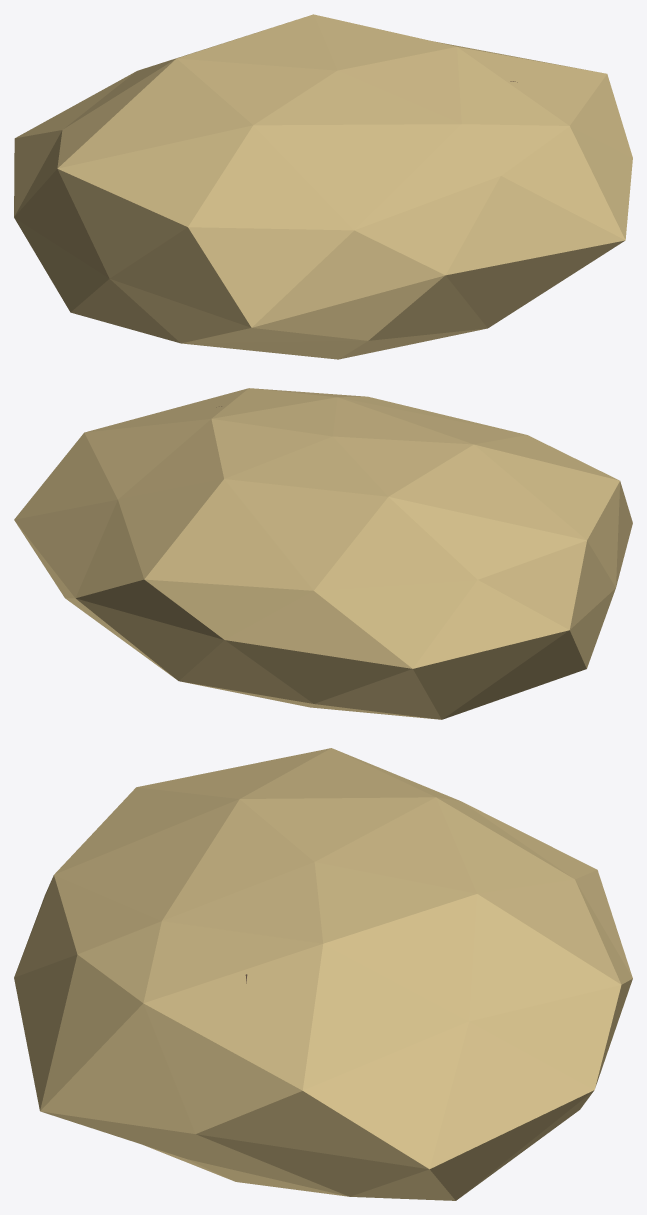
Rendered from sponge.glb.
3 views of the same model, one above another, from view 1: azimuth 30°, elevation 25°; view 2: azimuth 150°, elevation 25°; view 3: azimuth 270°, elevation 25° (orthographic). The views are drawn at different scales.
Visible parts, largest first — view 1: sponge; view 2: sponge; view 3: sponge.
Boxes of the visible parts, left/top/right/bottom form: sponge: left=14, top=14, right=632, bottom=359; sponge: left=14, top=388, right=632, bottom=719; sponge: left=14, top=748, right=632, bottom=1200.
Bounding box in the file's own units: 0.1941 × 0.08 × 0.1543.
